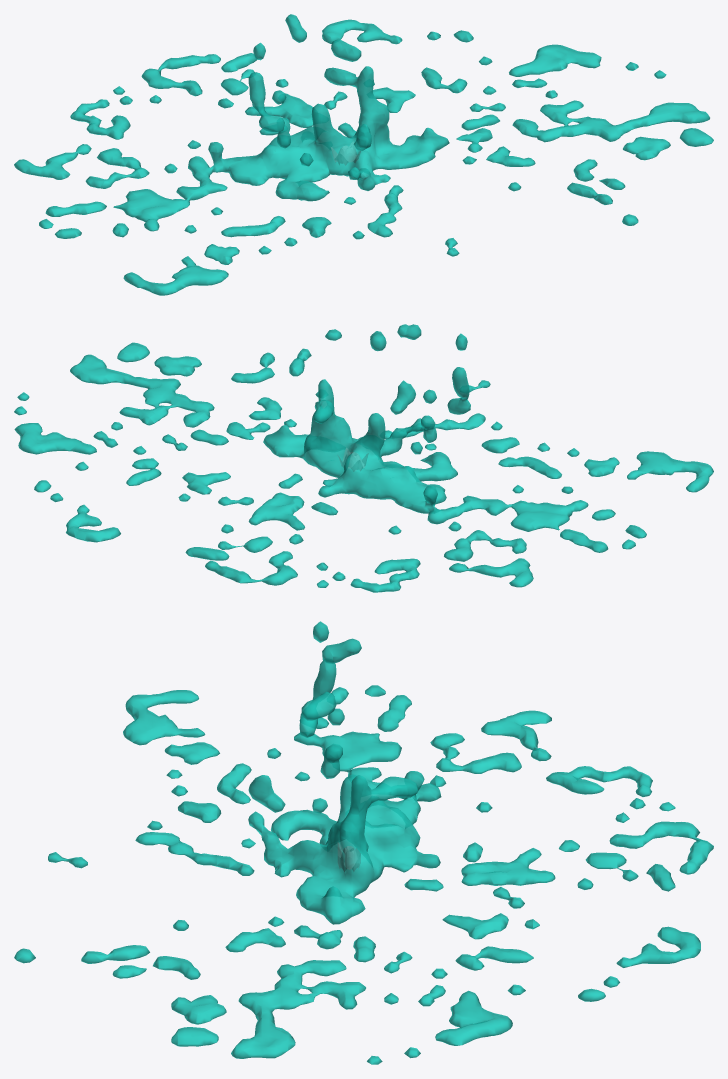
3 renders of one model, top to bottom at view 1: azimuth 30°, elevation 25°; view 2: azimuth 150°, elevation 25°; view 3: azimuth 270°, elevation 25°, orthographic. The views are drawn at different scales.
Parts seen in each view (by area): view 1: Liquid_Domain; view 2: Liquid_Domain; view 3: Liquid_Domain.
Boxes of the visible parts, x1,y1,x2,y2 form: Liquid_Domain: (14,14,713,295); Liquid_Domain: (14,324,713,592); Liquid_Domain: (14,621,713,1064).
Bounding box in the file's own units: 11.37 × 2.84 × 8.96.
